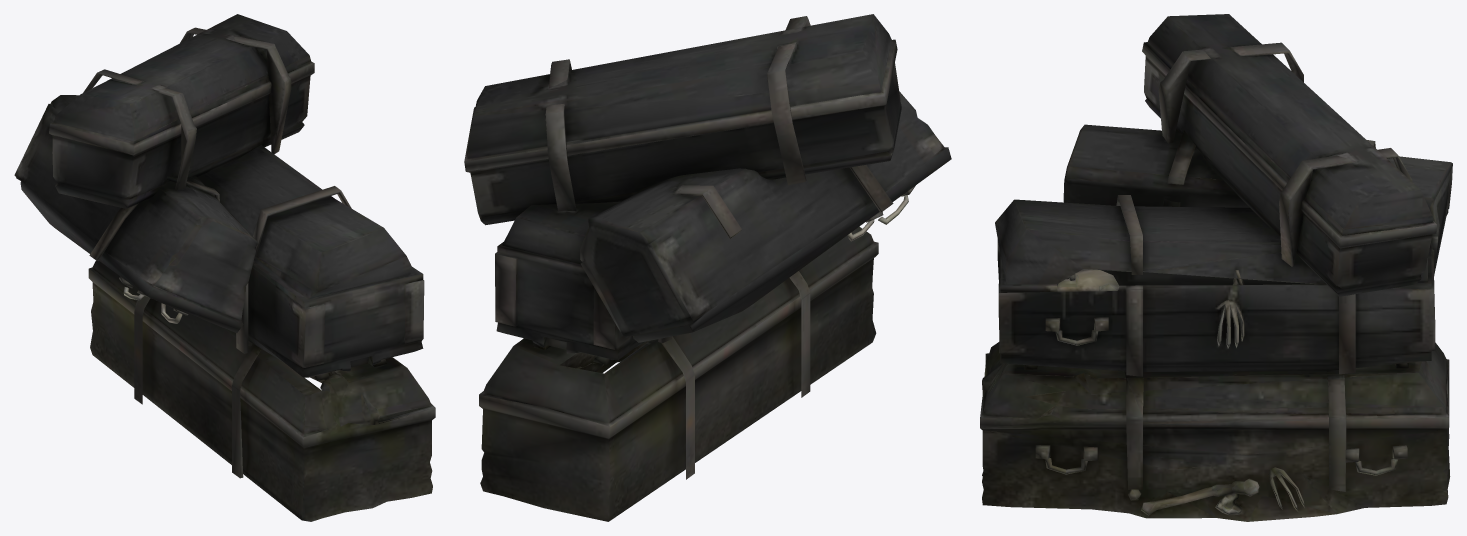
File: coffin_stack.glb
3 renders of one model, left to right at view 1: azimuth 30°, elevation 25°; view 2: azimuth 150°, elevation 25°; view 3: azimuth 270°, elevation 25°, orthographic. The views are drawn at different scales.
Parts seen in each view (by area): view 1: tripo_node_6d53c28e-dadf-4b2d-9bb4-18192ef8da2f; view 2: tripo_node_6d53c28e-dadf-4b2d-9bb4-18192ef8da2f; view 3: tripo_node_6d53c28e-dadf-4b2d-9bb4-18192ef8da2f.
Boxes of the visible parts, <box> form: tripo_node_6d53c28e-dadf-4b2d-9bb4-18192ef8da2f: <box>14,14,435,521</box>; tripo_node_6d53c28e-dadf-4b2d-9bb4-18192ef8da2f: <box>464,14,951,521</box>; tripo_node_6d53c28e-dadf-4b2d-9bb4-18192ef8da2f: <box>980,14,1452,521</box>.
Bounding box in the file's own units: 0.7871 × 0.8925 × 0.998.
Materials: 1 (1 with a texture image).
